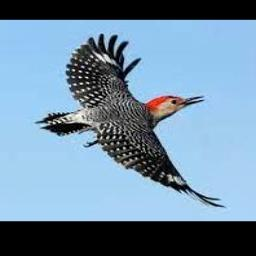Woodpecker: (35, 33, 228, 208)
